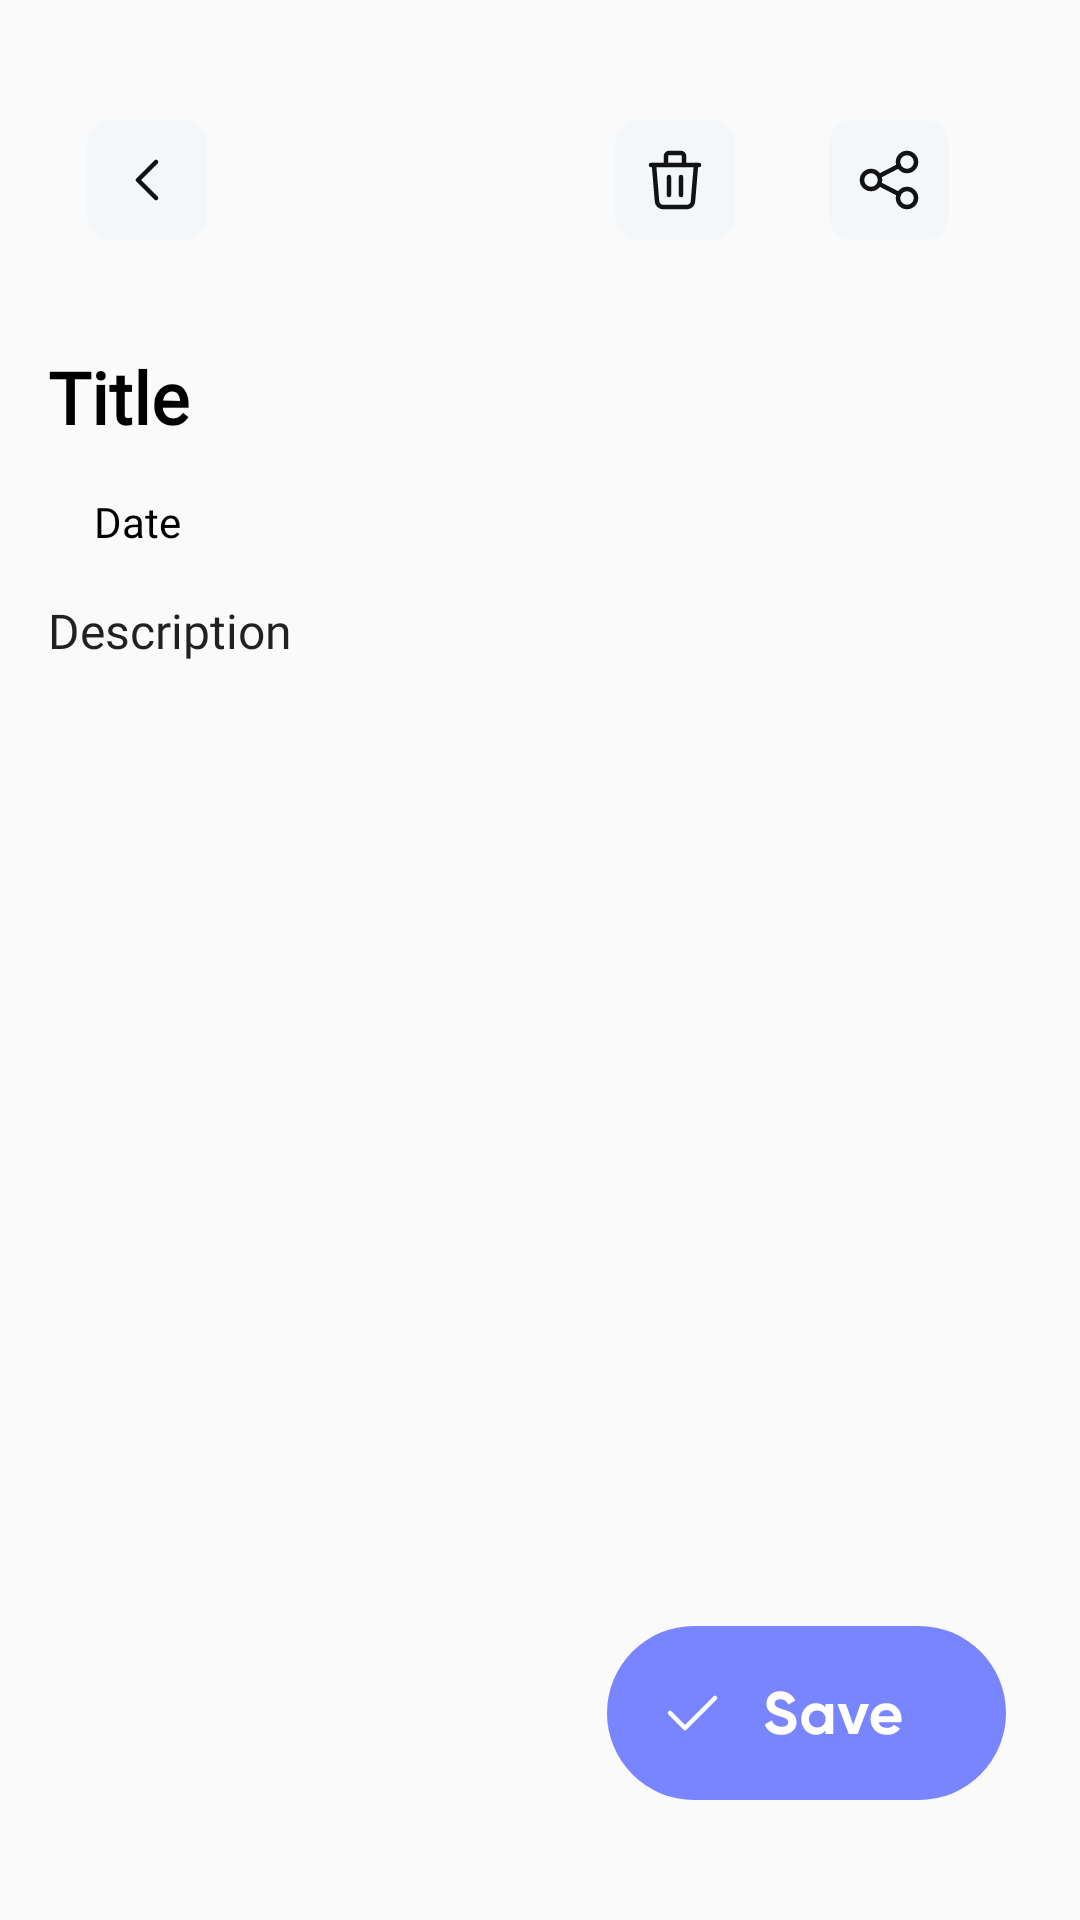

Where icons sit on this 1080x1920 app screen, as (x1, y1, x2, y2):
delete: (649, 150, 701, 210)
share: (859, 150, 919, 210)
